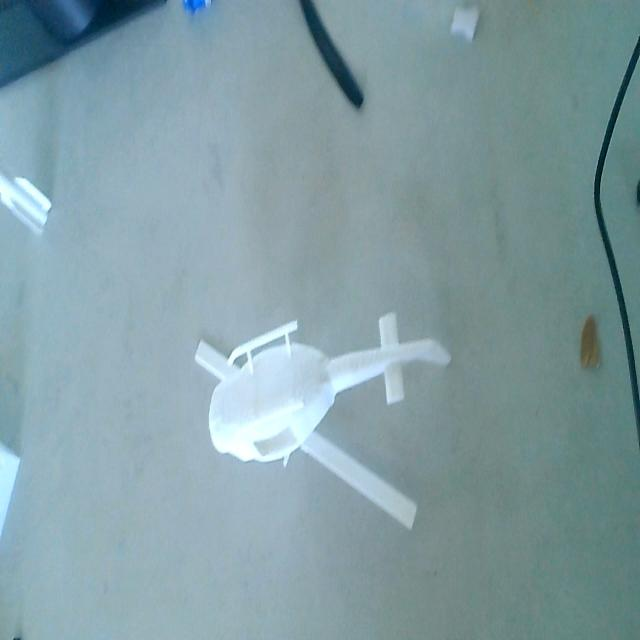Helicopter: (186, 308, 450, 536)
Rocket: (0, 166, 59, 235)
